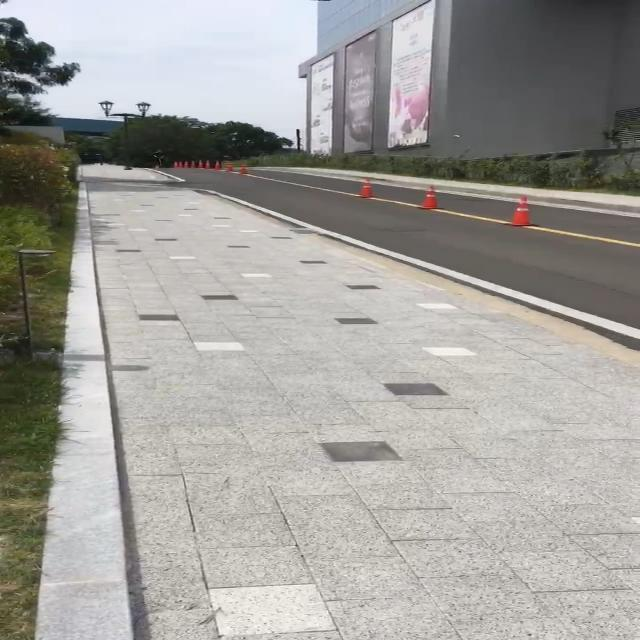obstacle: (498, 192, 544, 230), (407, 182, 446, 212), (348, 172, 378, 198)
road: (159, 166, 640, 367)
sidewalk: (36, 182, 640, 640), (302, 168, 640, 208), (79, 167, 175, 183)
